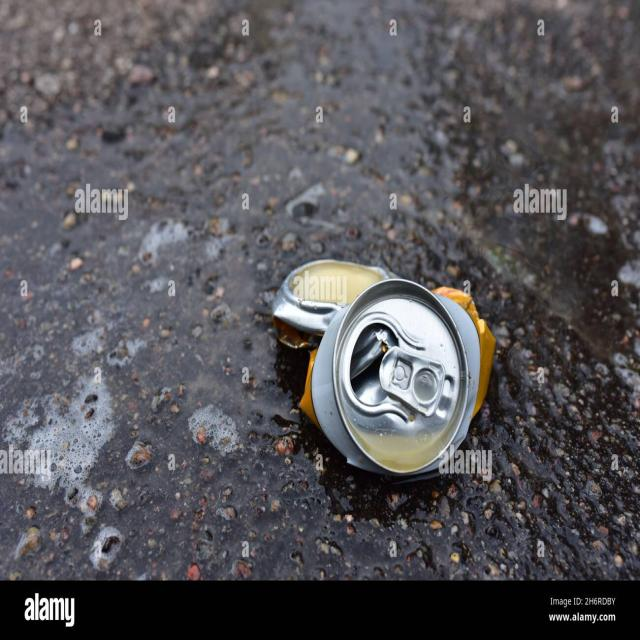aluminum_can: (247, 261, 510, 484)
